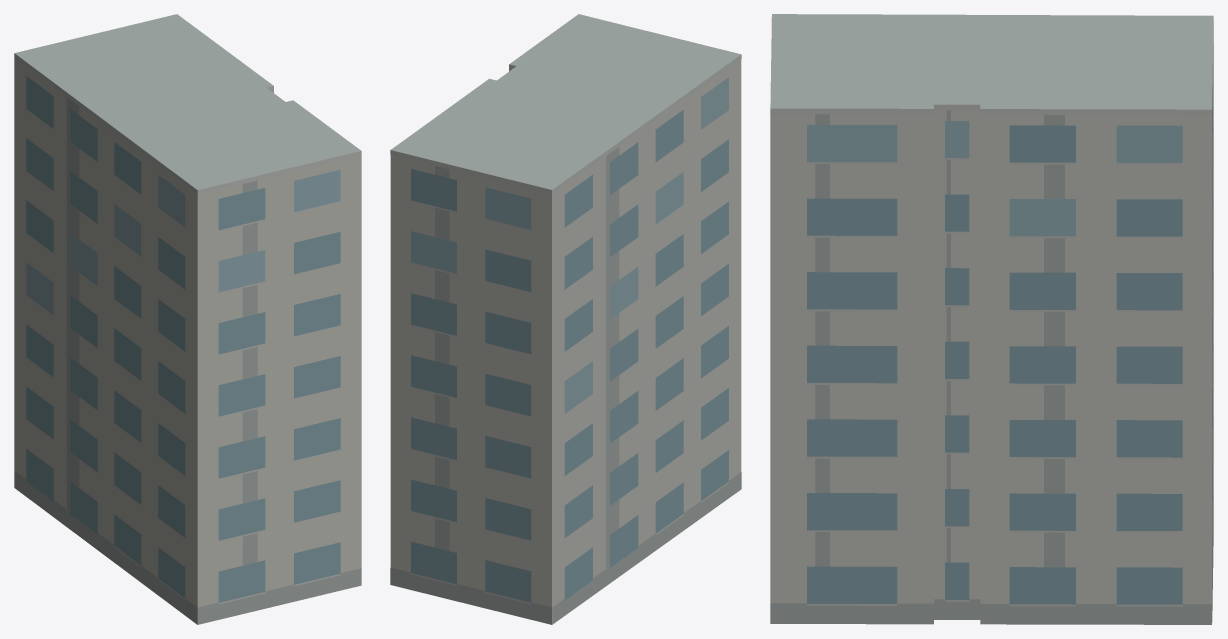
Rendered from survey-upis-32689319.glb.
3 renders of one model, left to right at view 1: azimuth 30°, elevation 25°; view 2: azimuth 150°, elevation 25°; view 3: azimuth 270°, elevation 25°, orthographic. The views are drawn at different scales.
Visible parts, largest first — view 1: survey-upis-32689319.tmp; view 2: survey-upis-32689319.tmp; view 3: survey-upis-32689319.tmp.
Part boxes in pixels (x1,y1,x2,y2): survey-upis-32689319.tmp: [14, 14, 361, 624]; survey-upis-32689319.tmp: [390, 14, 741, 624]; survey-upis-32689319.tmp: [770, 14, 1213, 624].
Size of the model in its own units: 8.82 by 22.15 by 17.28.
